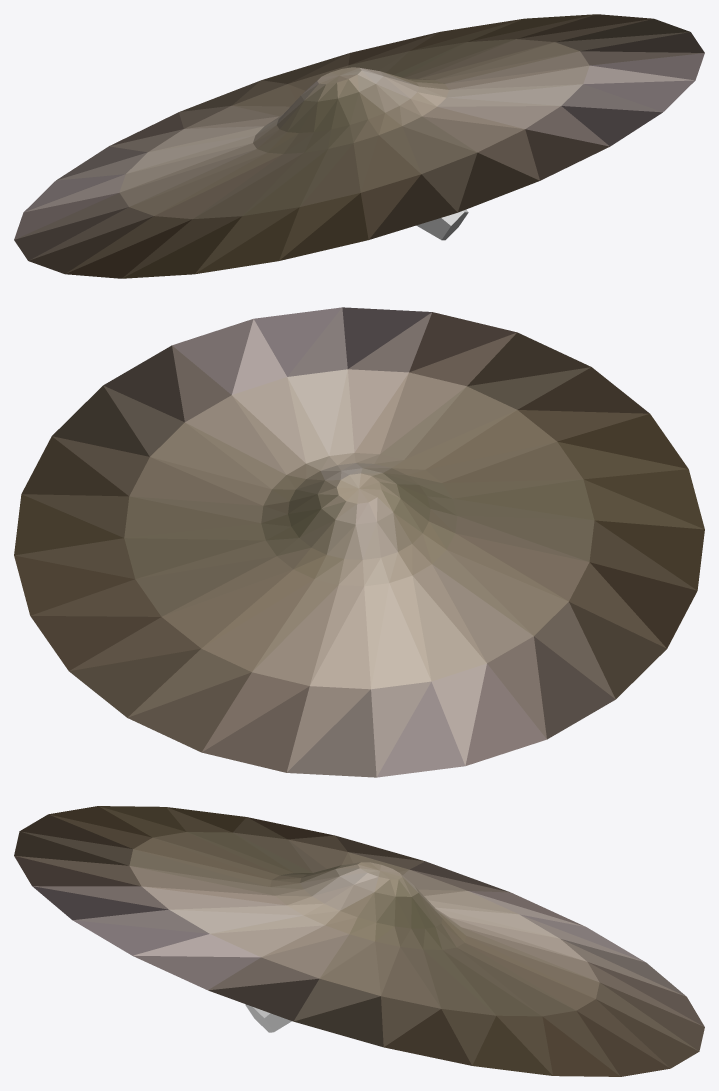
File: cymbal2-head.fbx
3 renders of one model, top to bottom at view 1: azimuth 30°, elevation 25°; view 2: azimuth 150°, elevation 25°; view 3: azimuth 270°, elevation 25°, orthographic. The views are drawn at different scales.
Parts seen in each view (by area): view 1: polySurface353, polySurface389; view 2: polySurface353; view 3: polySurface353, polySurface389.
Part boxes in pixels (x1=…): polySurface353: x1=14, y1=14, x2=704, y2=278; polySurface389: x1=416, y1=209, x2=468, y2=240; polySurface353: x1=14, y1=307, x2=704, y2=777; polySurface353: x1=14, y1=806, x2=704, y2=1076; polySurface389: x1=245, y1=1004, x2=291, y2=1032.
Size of the model in its own units: 46.97 by 14.58 by 45.66.
